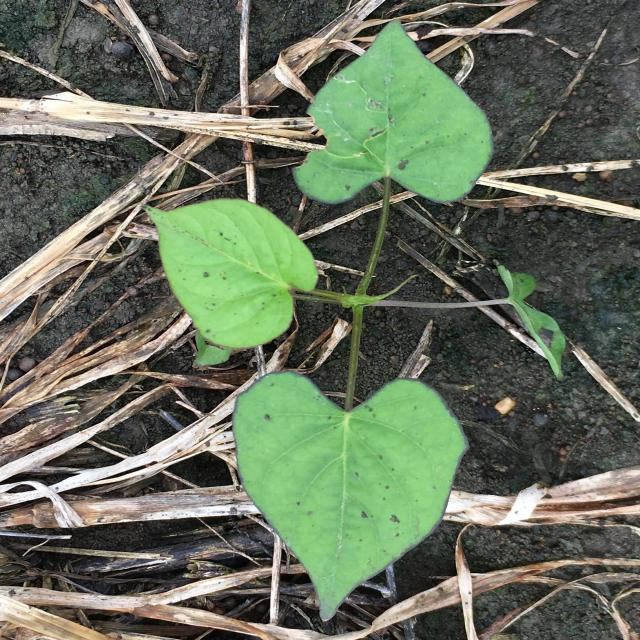MorningGlory: (141, 19, 567, 620)
